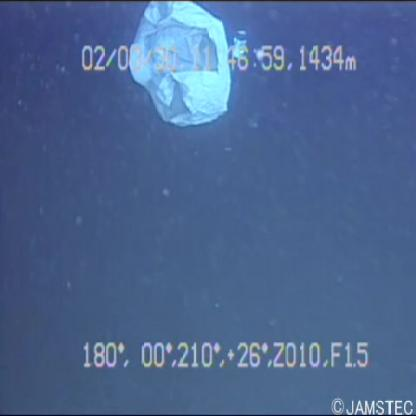Rác: (127, 1, 241, 131)
